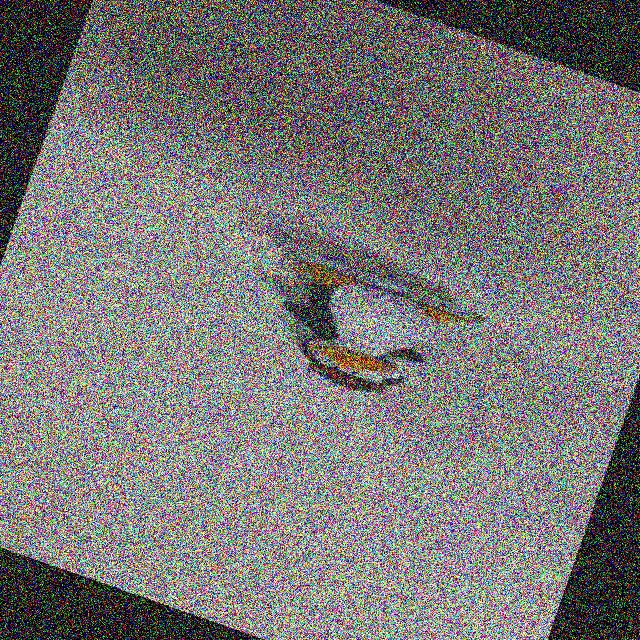Penguin: (211, 215, 517, 469)
